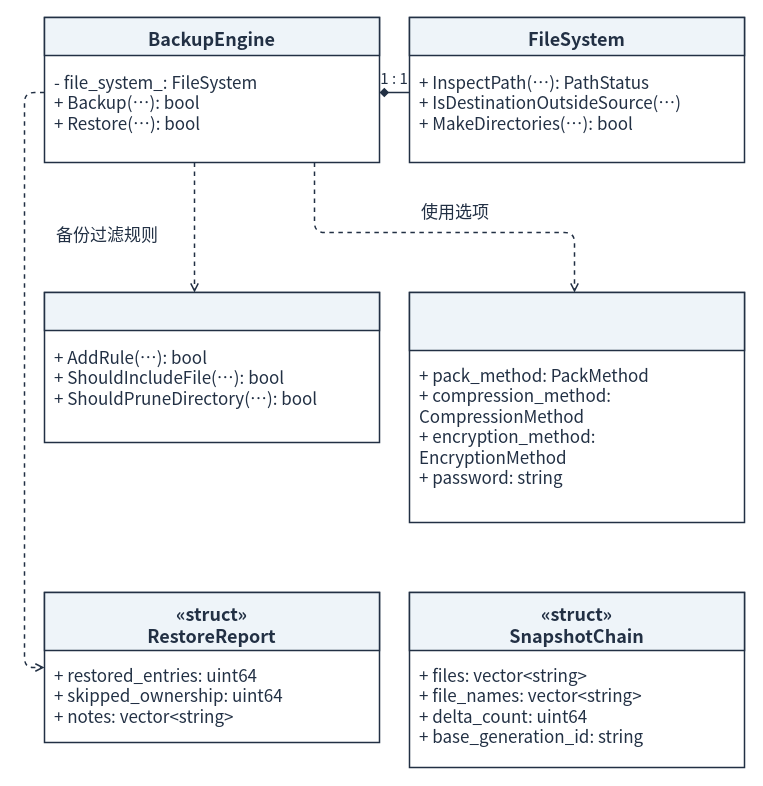
Image size: 763x786. Some labels were removed from this diagram. Each missing label, with the centre of its shape:
"Filter" belongs at point (211, 311).
"«struct» BackupOptions" belongs at point (576, 321).
